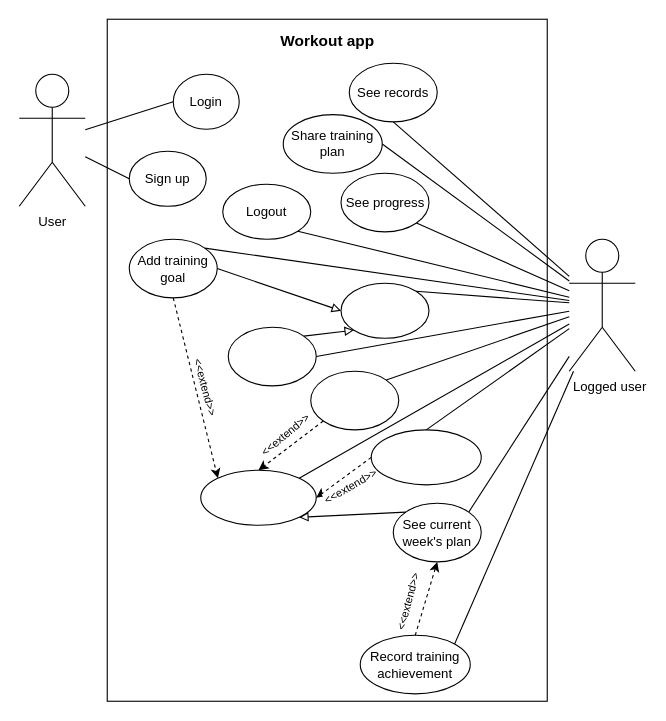
This 666x721 diagram has some shape labels left out. Here are the shapes that lost their labels. From the top down, the centre of each, then its label:
At (x=384, y=310): "Add training plan".
At (x=271, y=356): "Add preset training plan".
At (x=354, y=400): "Modify training goal".
At (x=425, y=457): "Delete training goal".
At (x=258, y=497): "See training plan for a week".
